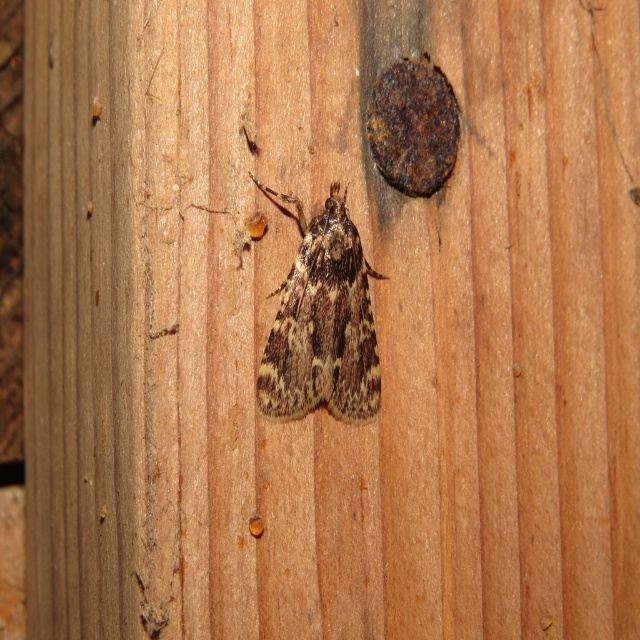Moths and butterflies: (246, 167, 391, 426)
